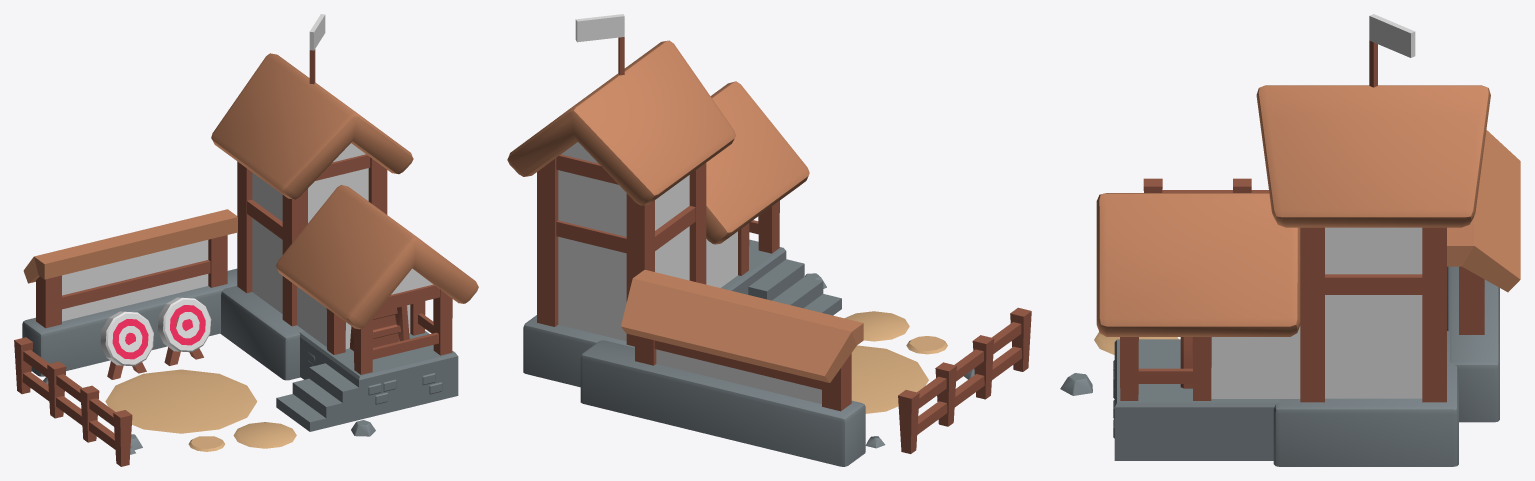
Rendered from archeryrange.glb.
3 views of the same model, side by side, from view 1: azimuth 30°, elevation 25°; view 2: azimuth 150°, elevation 25°; view 3: azimuth 270°, elevation 25° (orthographic). The views are drawn at different scales.
Visible parts, largest first — view 1: archeryrange; view 2: archeryrange; view 3: archeryrange.
Boxes of the visible parts, bbox=[...] form: archeryrange: bbox=[14, 14, 478, 466]; archeryrange: bbox=[507, 14, 1031, 466]; archeryrange: bbox=[1060, 14, 1520, 466].
Size of the model in its own units: 7.21 by 6.15 by 6.21.
